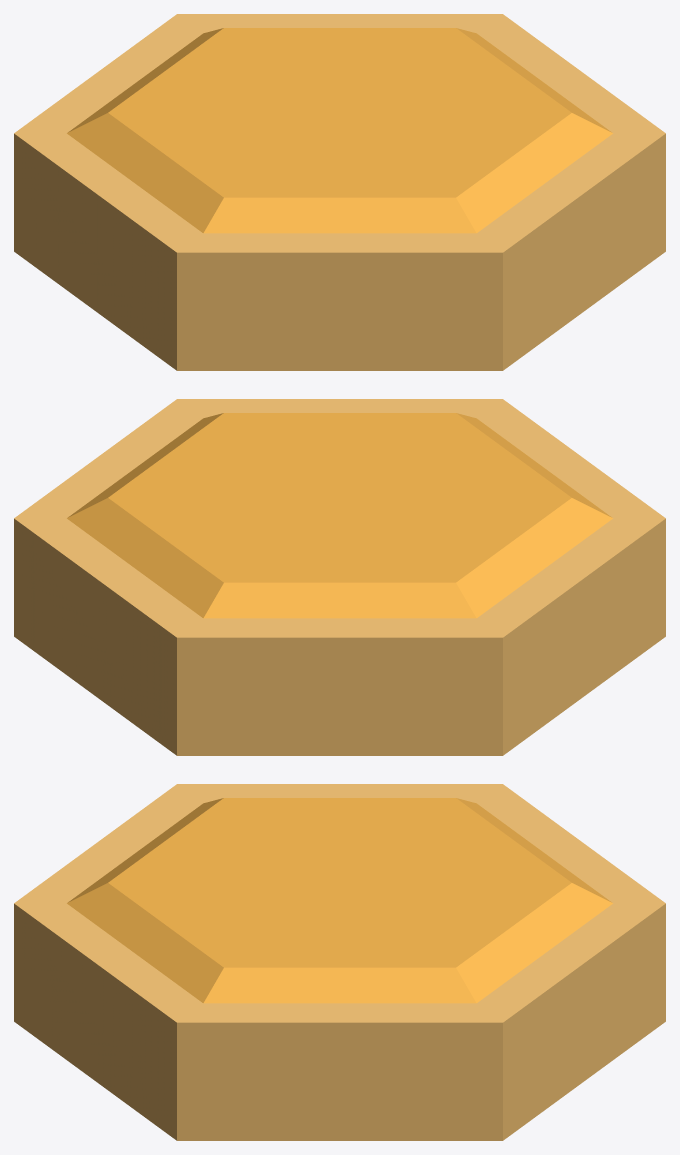
File: TileHex_09.fbx
The picture shows the model from 3 angles, top to bottom: view 1: azimuth 30°, elevation 25°; view 2: azimuth 150°, elevation 25°; view 3: azimuth 270°, elevation 25°; orthographic projection.
Parts seen in each view (by area): view 1: TileHex_09; view 2: TileHex_09; view 3: TileHex_09.
Part boxes in pixels (x1,y1,x2,y2): TileHex_09: (14,14,665,370); TileHex_09: (14,399,665,755); TileHex_09: (14,784,665,1140).
Bounding box in the file's own units: 433 × 117 × 500.
